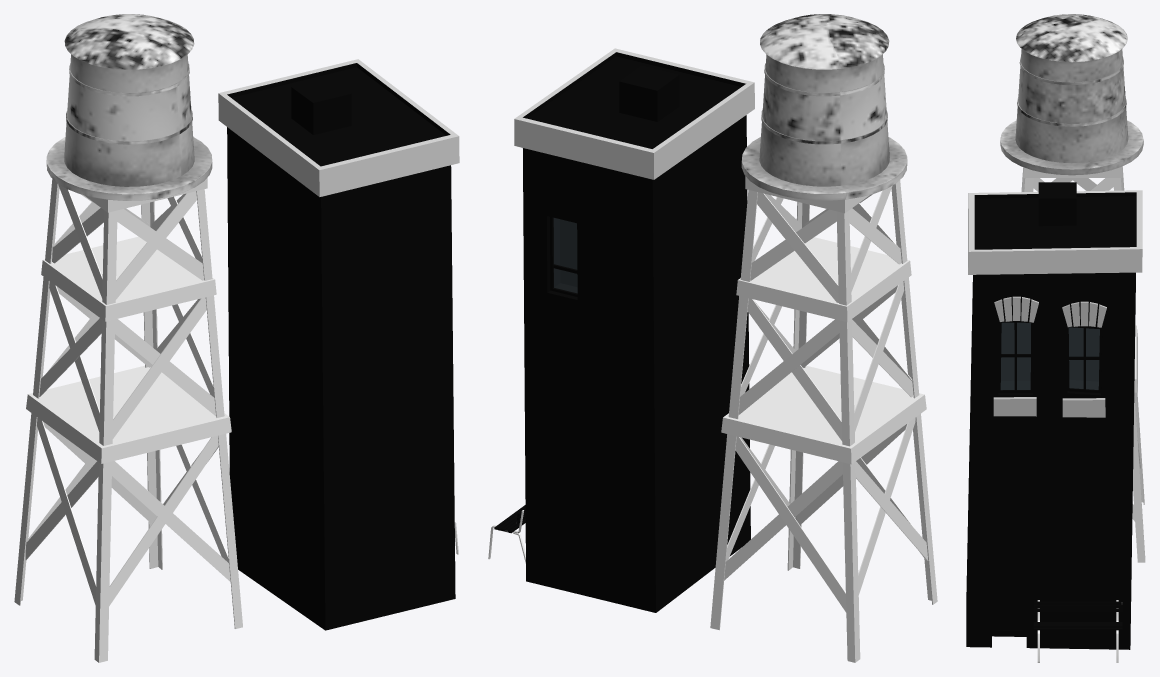
Rendered from bina1.fbx.
3 views of the same model, side by side, from view 1: azimuth 30°, elevation 25°; view 2: azimuth 150°, elevation 25°; view 3: azimuth 270°, elevation 25° (orthographic). The views are drawn at different scales.
Parts seen in each view (by area): view 1: Cube.004; view 2: Cube.004; view 3: Cube.004.
Boxes of the visible parts, <box> form: Cube.004: <box>14,14,459,662</box>; Cube.004: <box>488,14,937,662</box>; Cube.004: <box>966,14,1145,662</box>.
Size of the model in its own units: 1790 by 2645 by 841.
10 materials, 7 textured.
